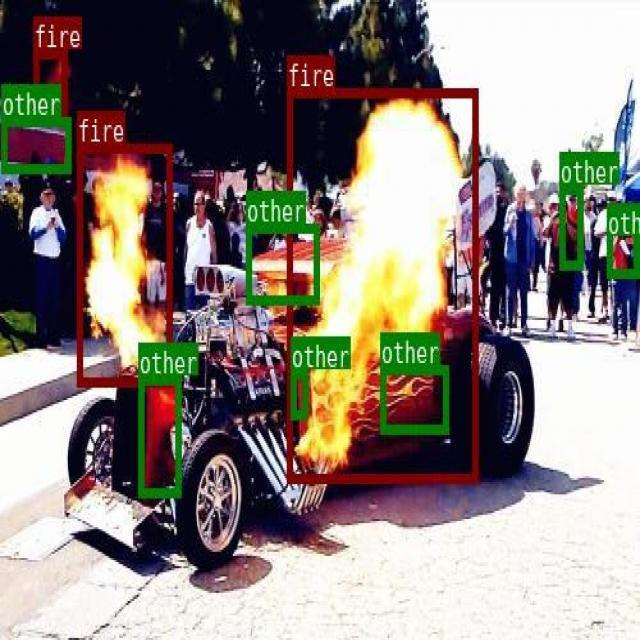fire: (286, 87, 477, 480), (77, 143, 171, 385), (32, 49, 66, 119)
